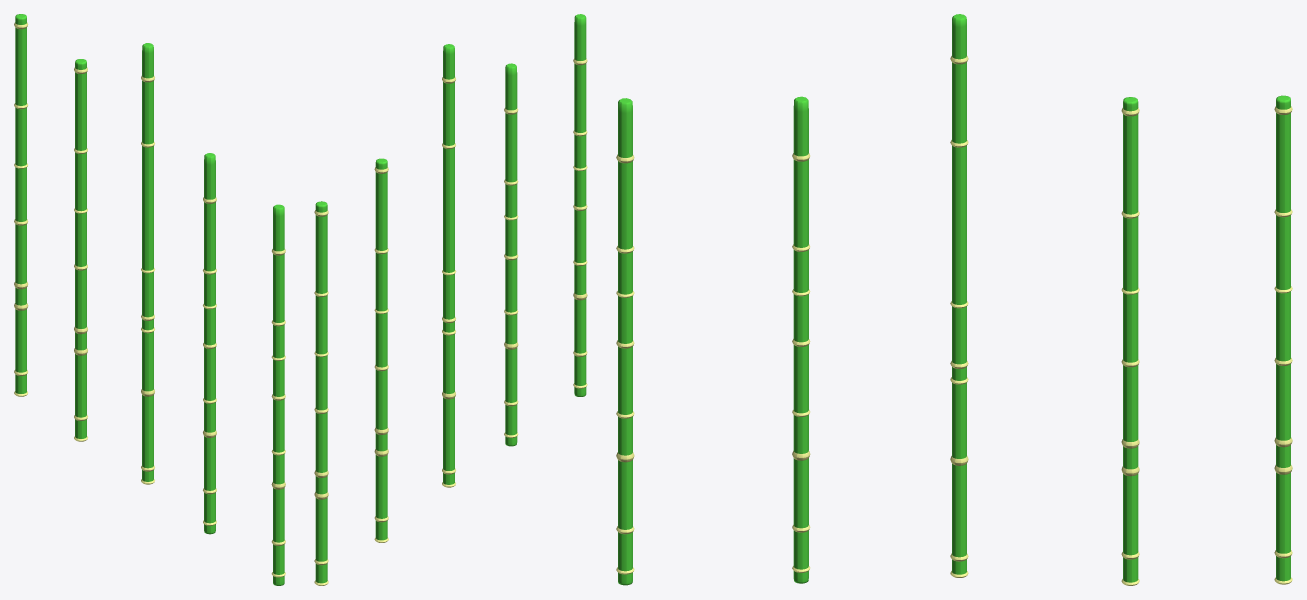
The model's file is Bamboo.fbx.
3 renders of one model, left to right at view 1: azimuth 30°, elevation 25°; view 2: azimuth 150°, elevation 25°; view 3: azimuth 270°, elevation 25°, orthographic. The views are drawn at different scales.
Parts seen in each view (by area): view 1: bambouA001, bambouB001, bambouD001, bambouC001, bambouE001; view 2: bambouA001, bambouD001, bambouB001, bambouC001, bambouE001; view 3: bambouA001, bambouD001, bambouE001, bambouB001, bambouC001.
Part boxes in pixels (x1,y1,x2,y2): bambouA001: (141, 43, 154, 484); bambouB001: (14, 14, 28, 396); bambouD001: (74, 59, 87, 441); bambouC001: (271, 204, 285, 585); bambouE001: (203, 153, 216, 534); bambouA001: (442, 44, 456, 487); bambouD001: (374, 158, 388, 542); bambouB001: (314, 201, 328, 585); bambouC001: (573, 14, 587, 396); bambouE001: (504, 63, 518, 446); bambouA001: (950, 14, 968, 577); bambouD001: (1121, 97, 1139, 585); bambouE001: (792, 96, 810, 583); bambouB001: (1274, 95, 1292, 584); bambouC001: (616, 98, 634, 585).
Bounding box in the file's own units: 0.11 × 3.82 × 4.13.
